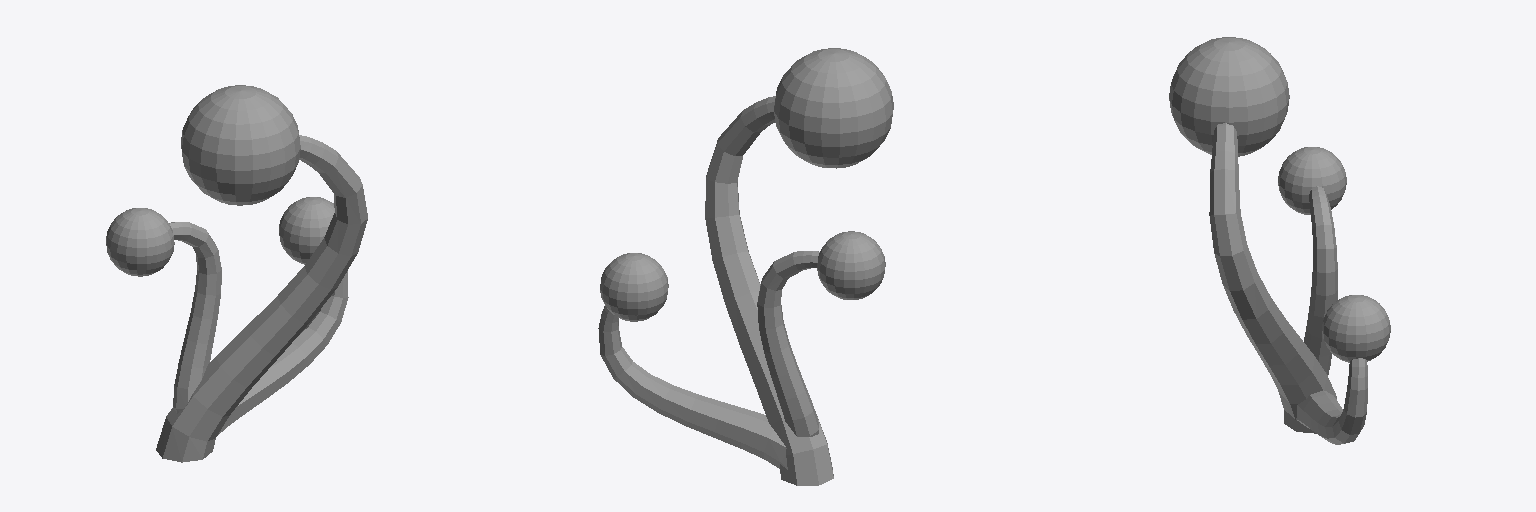
File: Tree_Light_1_CUBezierCurve.obj
3 renders of one model, left to right at view 1: azimuth 30°, elevation 25°; view 2: azimuth 150°, elevation 25°; view 3: azimuth 270°, elevation 25°, orthographic.
Visible parts, largest first — view 1: Tree_Light_1_CUBezierCurve.003; view 2: Tree_Light_1_CUBezierCurve.003; view 3: Tree_Light_1_CUBezierCurve.003.
Boxes of the visible parts, x1=… form: Tree_Light_1_CUBezierCurve.003: x1=106, y1=85, x2=367, y2=462; Tree_Light_1_CUBezierCurve.003: x1=598, y1=48, x2=893, y2=485; Tree_Light_1_CUBezierCurve.003: x1=1169, y1=37, x2=1390, y2=444.
Bounding box in the file's own units: 2.63 × 3.76 × 1.96.